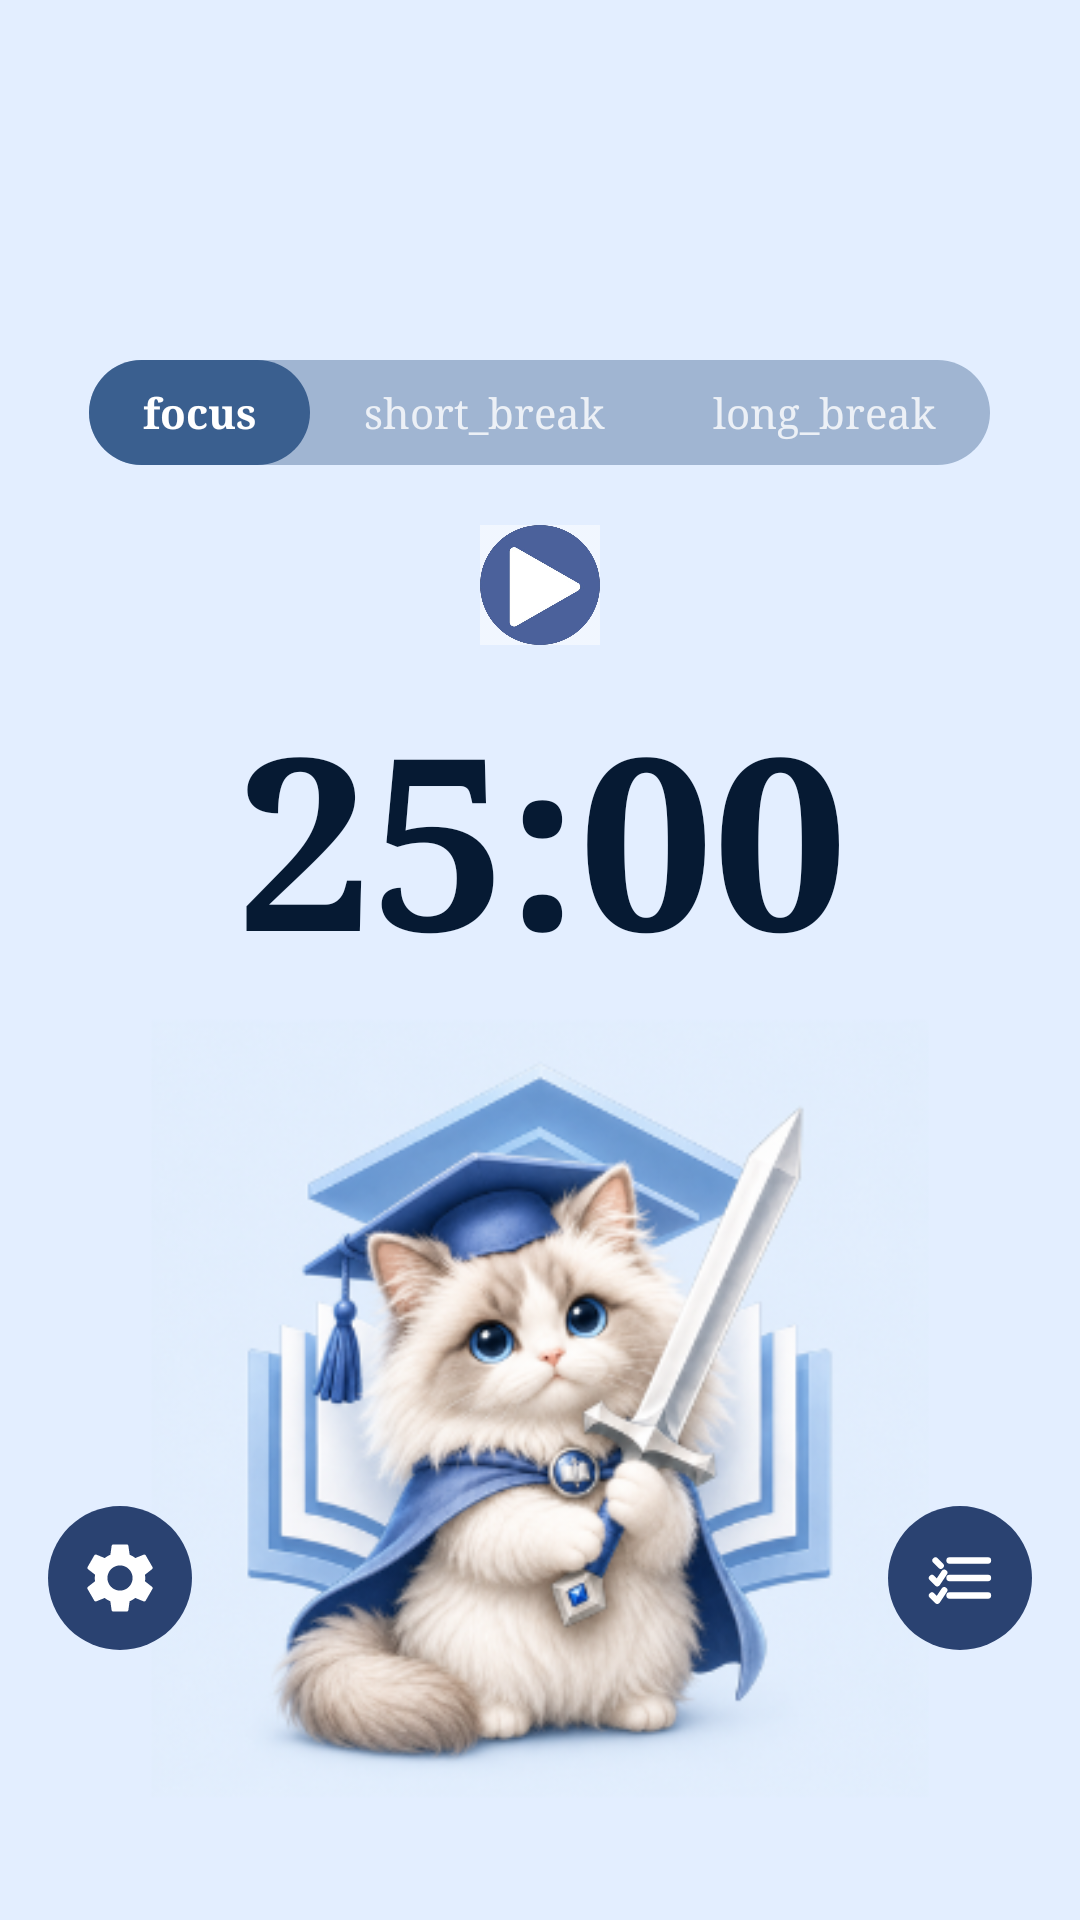

Where to tap for icons on this 1080px x 1920px app screen, as (x=x, y=y):
play: (x=540, y=585)
settings: (x=120, y=1578)
Tasks: (x=960, y=1578)
